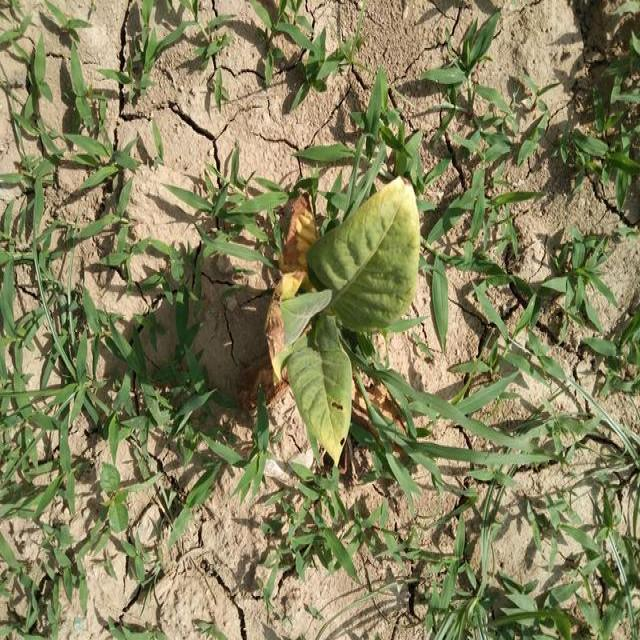crop: (266, 150, 431, 488)
